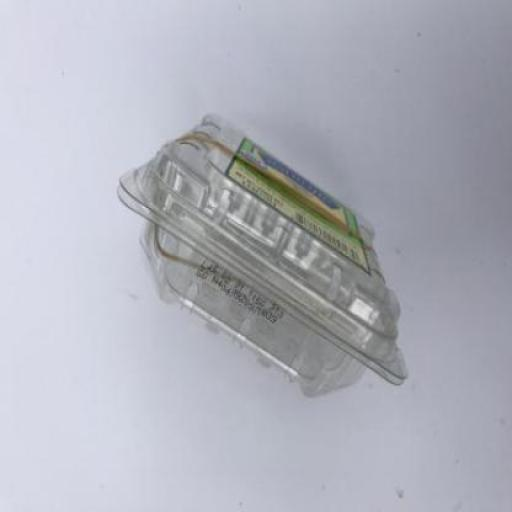plastic: (115, 112, 408, 399)
